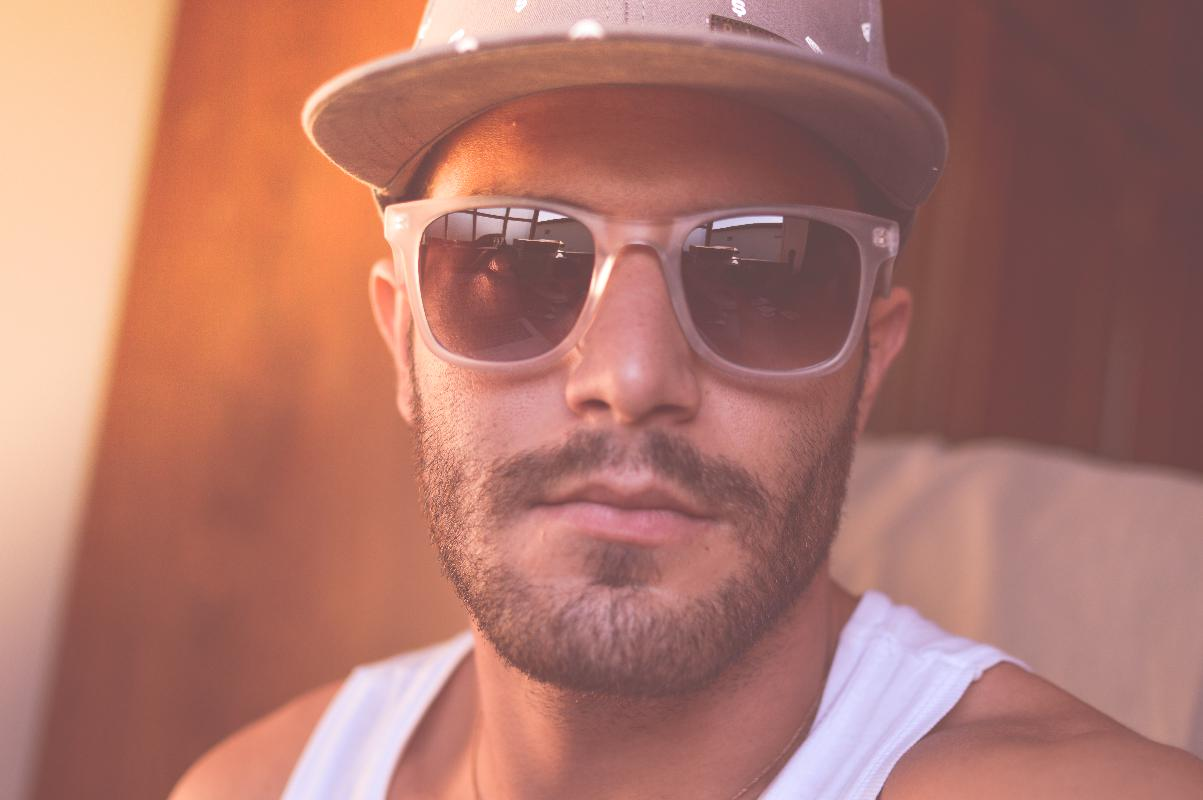Person: (159, 1, 1197, 800)
